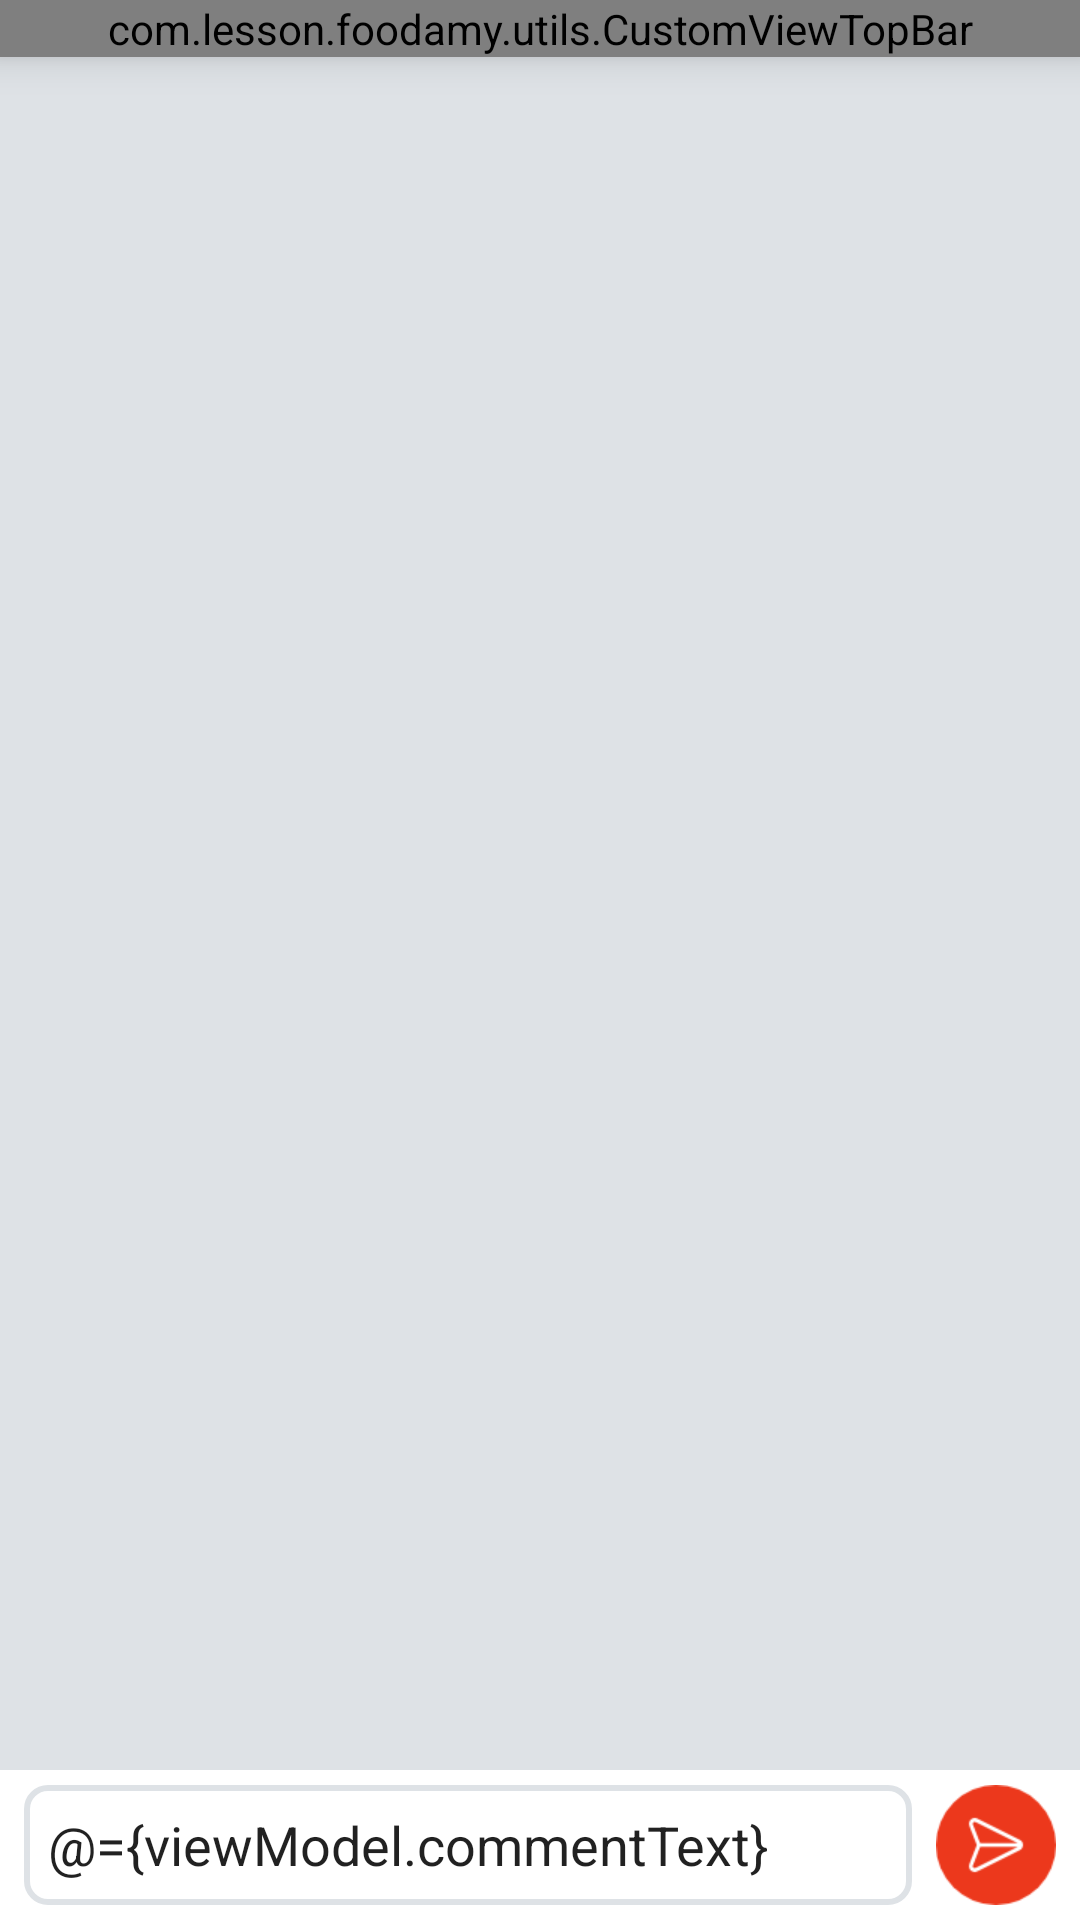

Point at icon controls on the screen. Image size 1080px×1920px, points as point (x, y).
send: point (996, 1845)
